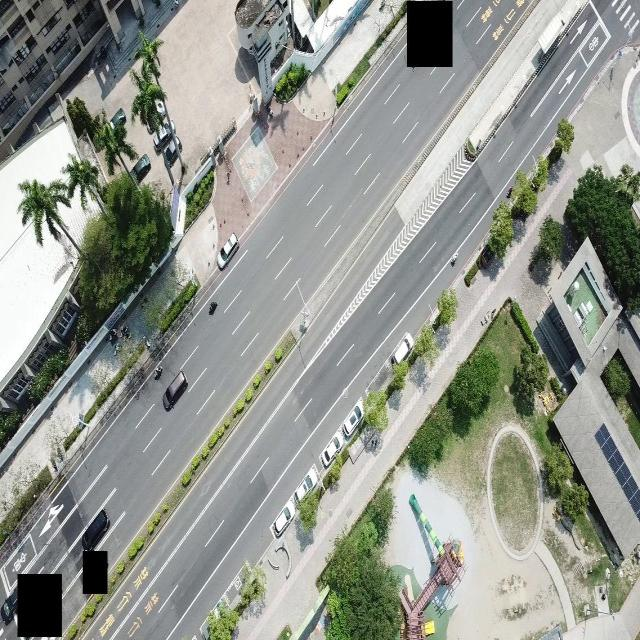bike: (209, 301, 218, 316), (266, 104, 274, 119), (451, 250, 458, 266)
car: (84, 507, 110, 549), (294, 466, 318, 508), (164, 370, 189, 410), (342, 400, 364, 440), (390, 331, 413, 366), (217, 231, 238, 267), (323, 432, 344, 466), (274, 502, 294, 536), (146, 101, 167, 133), (131, 154, 151, 184), (155, 123, 176, 151), (2, 592, 17, 622), (110, 106, 126, 130)
